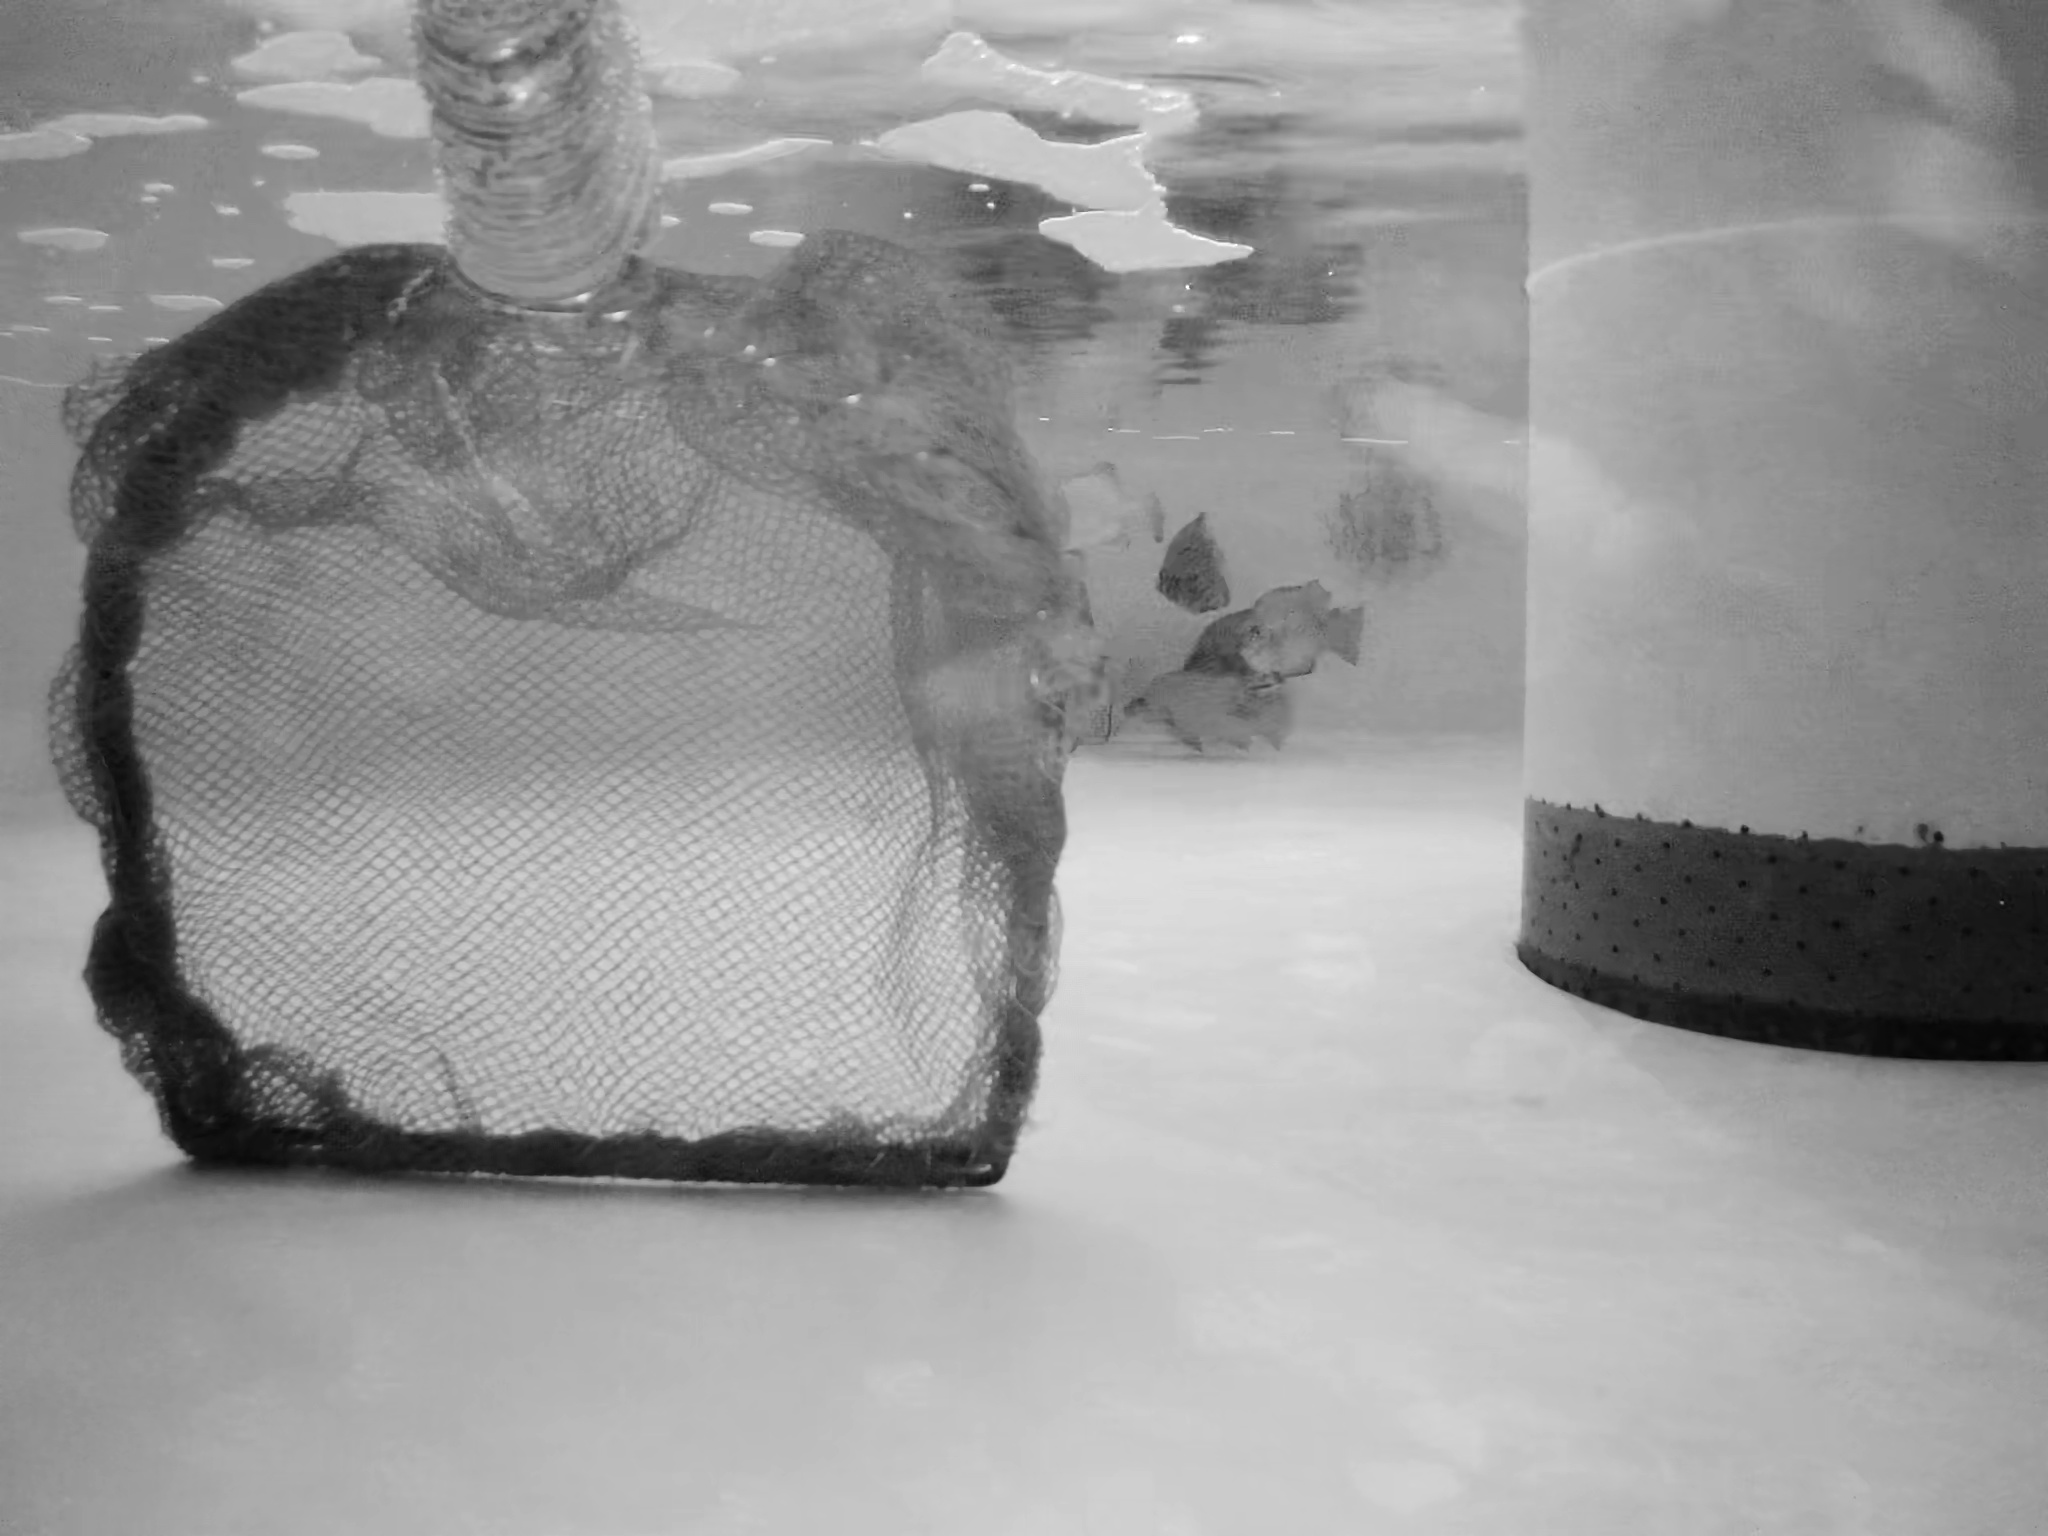fish: (1135, 668, 1306, 758), (1247, 573, 1366, 678), (1187, 608, 1287, 684), (1150, 515, 1229, 607)
